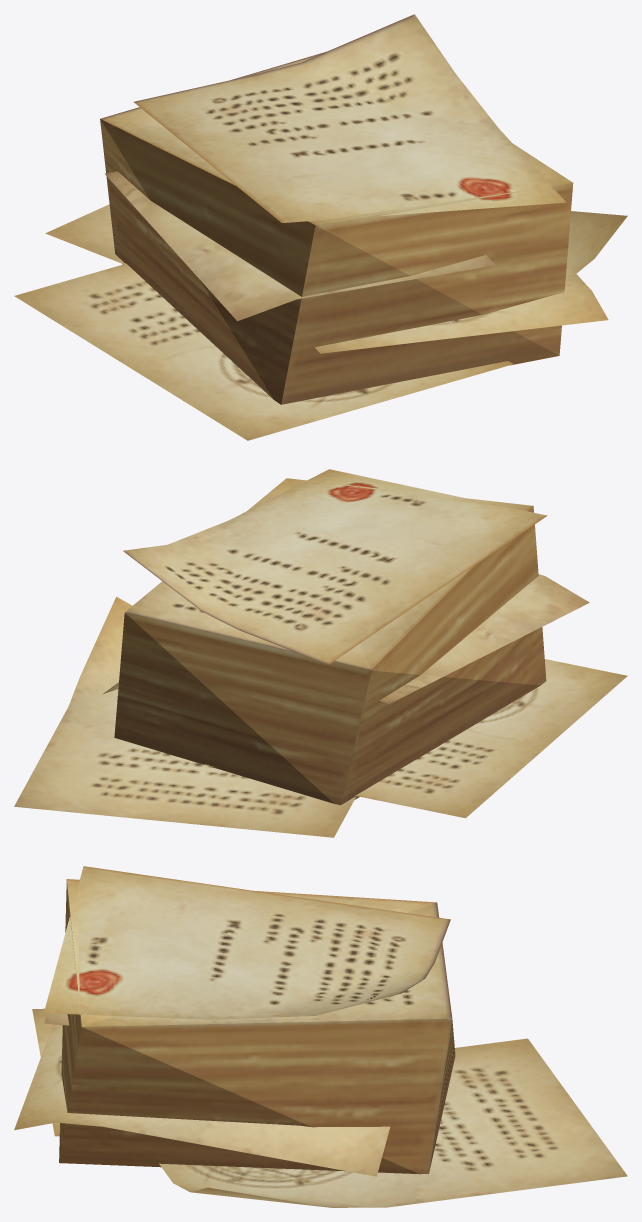
File: Paper_Preset_01.FBX
3 views of the same model, one above another, from view 1: azimuth 30°, elevation 25°; view 2: azimuth 150°, elevation 25°; view 3: azimuth 270°, elevation 25° (orthographic). The views are drawn at different scales.
Visible parts, largest first — view 1: Paper_Preset_01; view 2: Paper_Preset_01; view 3: Paper_Preset_01.
Boxes of the visible parts, left/top/right/bottom form: Paper_Preset_01: left=14, top=14, right=627, bottom=440; Paper_Preset_01: left=14, top=469, right=627, bottom=837; Paper_Preset_01: left=14, top=866, right=627, bottom=1207.
Size of the model in its own units: 42.46 by 48.1 by 16.13.
